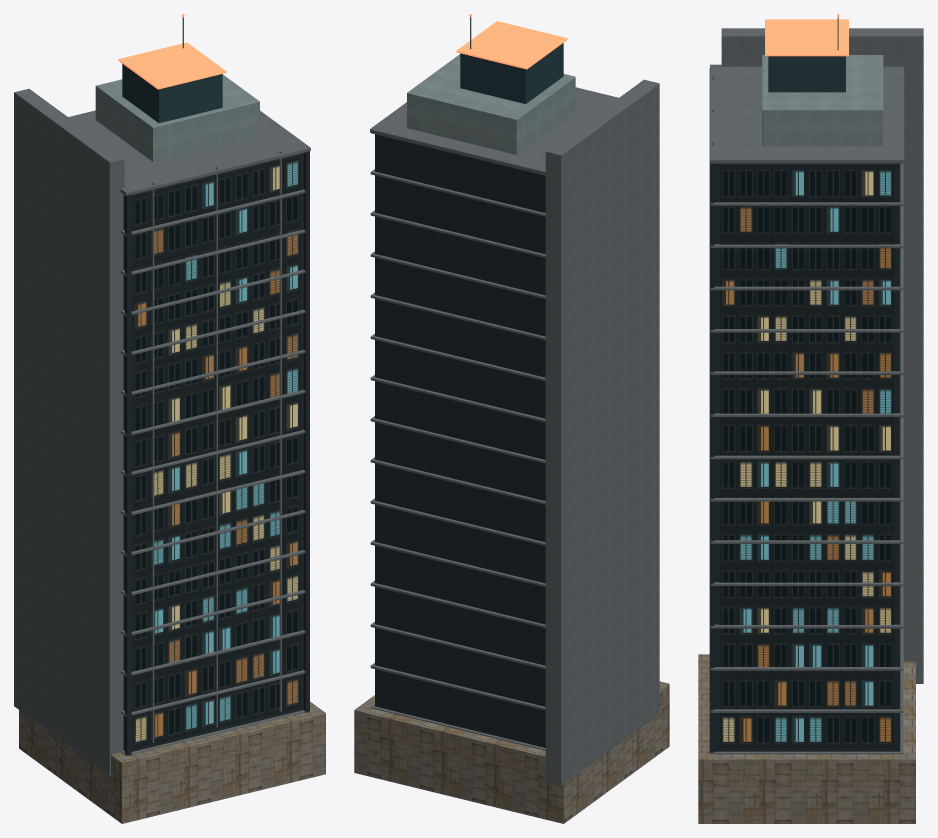
Rendered from NC_Building_office_LOD0.fbx.
3 renders of one model, left to right at view 1: azimuth 30°, elevation 25°; view 2: azimuth 150°, elevation 25°; view 3: azimuth 270°, elevation 25°, orthographic. The views are drawn at different scales.
Parts seen in each view (by area): view 1: NC_Building_office_LOD0; view 2: NC_Building_office_LOD0; view 3: NC_Building_office_LOD0.
Part boxes in pixels (bbox=[...]): NC_Building_office_LOD0: bbox=[14, 14, 325, 823]; NC_Building_office_LOD0: bbox=[354, 14, 669, 823]; NC_Building_office_LOD0: bbox=[698, 14, 923, 823].
Bounding box in the file's own units: 1610 × 5470 × 1450.
